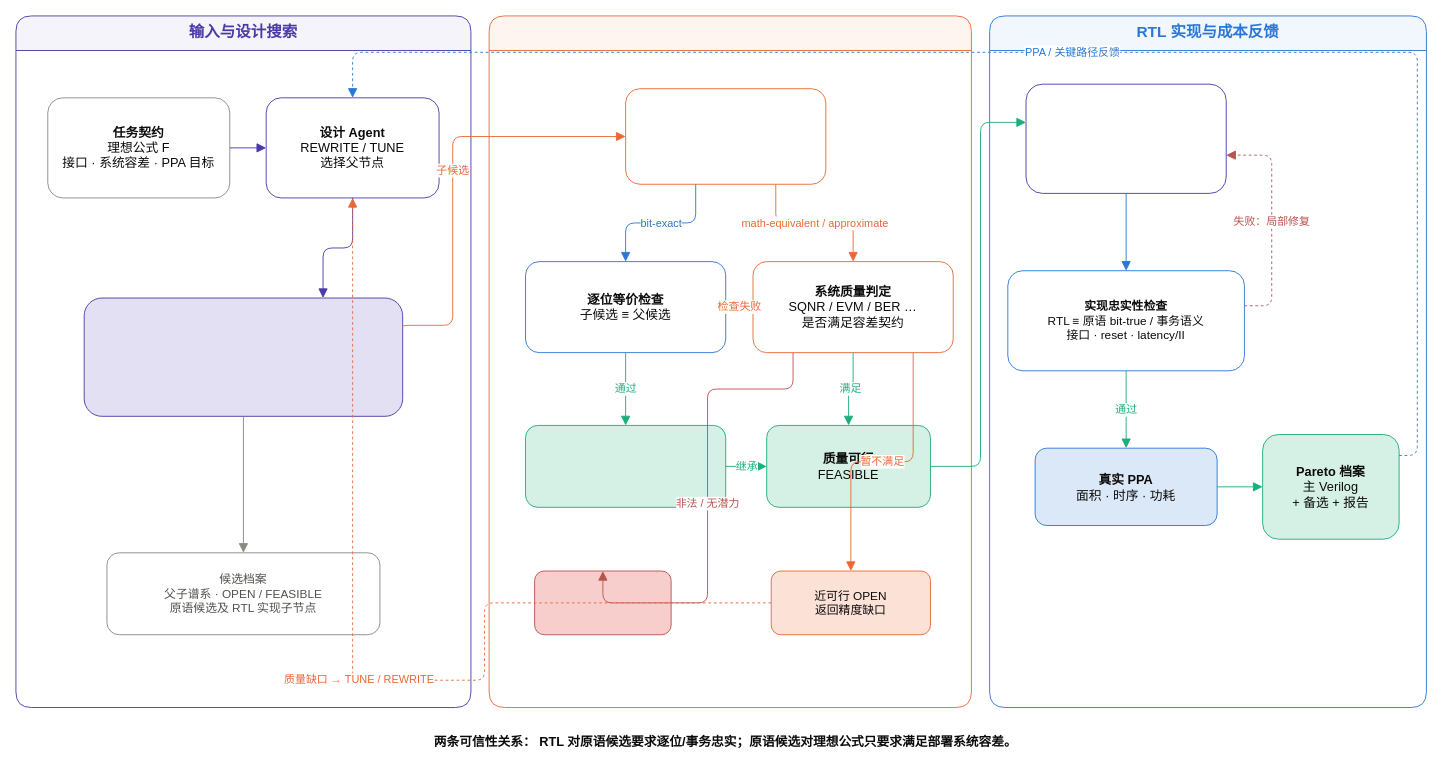
The diagram is 1442 pixels wide and 774 high, and some of its shapes have lost their labels. Here are the shapes that lost their labels. From the top down, the box of each, then its label:
(625, 88, 826, 184): 变换关系分类 bit-exact / math-equivalent / approximate
(1025, 83, 1226, 193): LLM as Compiler 受冻结原语契约约束 生成 RTL + manifest
(83, 297, 403, 416): 方法一 可执行类型化原语表示 算法结构 · signed/W/F · 量化 速率/状态 · latency/II · 资源承诺
(488, 15, 971, 708): 方法二 分层判定
(525, 425, 726, 507): 继承父节点质量结论 只重新评价硬件实现
(534, 570, 671, 635): 舍弃 非法或无潜力
